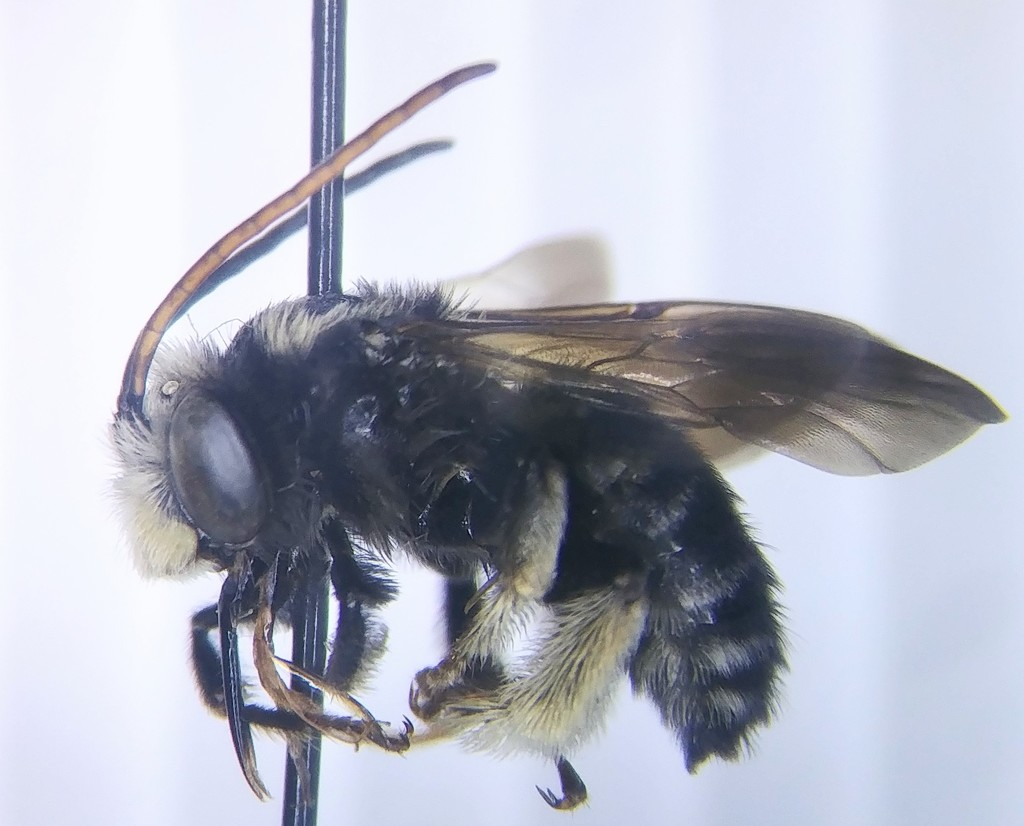not_bumblebee: (107, 55, 1008, 811)
